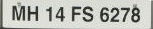character: (11, 4, 26, 21), (81, 5, 94, 22), (26, 4, 38, 22), (54, 5, 65, 22), (70, 4, 81, 21), (119, 6, 130, 22), (130, 6, 140, 23), (99, 6, 109, 22), (110, 6, 119, 22), (45, 5, 53, 21)
